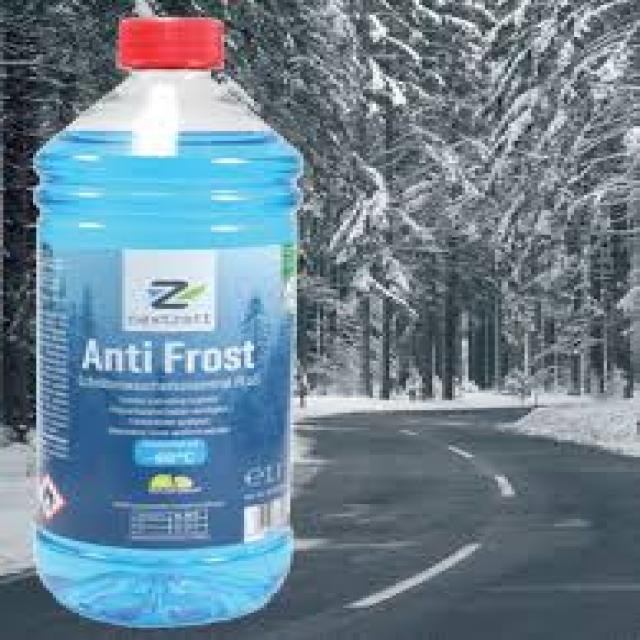winwinshield_washer: (28, 8, 304, 634)
